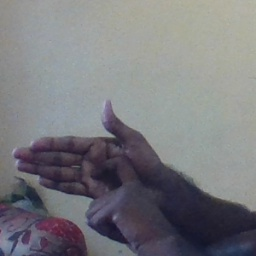R: (14, 97, 178, 240)
